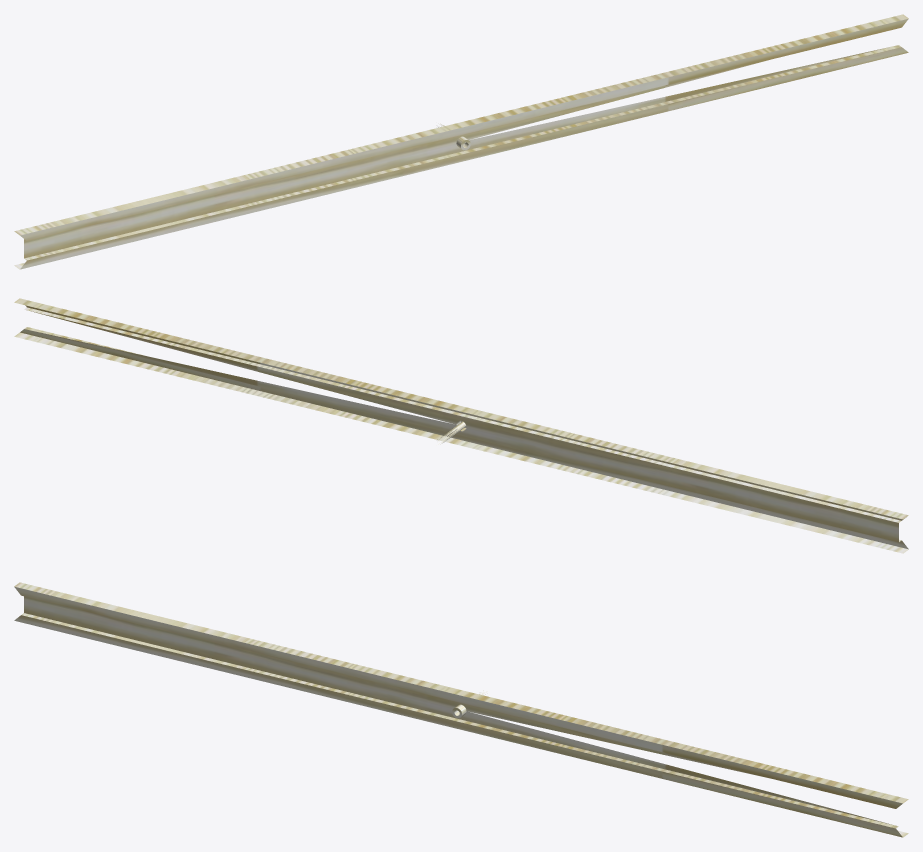
3 renders of one model, top to bottom at view 1: azimuth 30°, elevation 25°; view 2: azimuth 150°, elevation 25°; view 3: azimuth 330°, elevation 25°, orthographic.
Size of the model in its own units: 0.3093 by 0.0113 by 0.0169.
